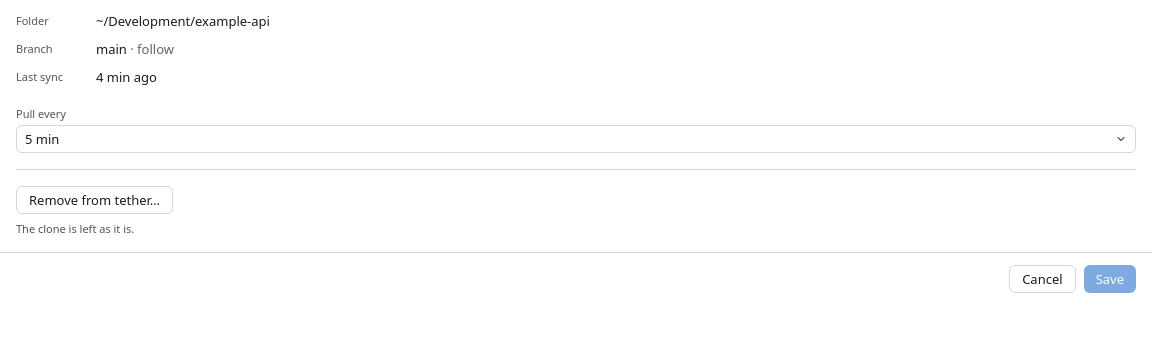
Test: RepoSettings › reads Removing… and locks the confirm while removing
Click the button "Remove from tether…" at (95, 200), box top-left (16, 186), bottom-right (173, 214)
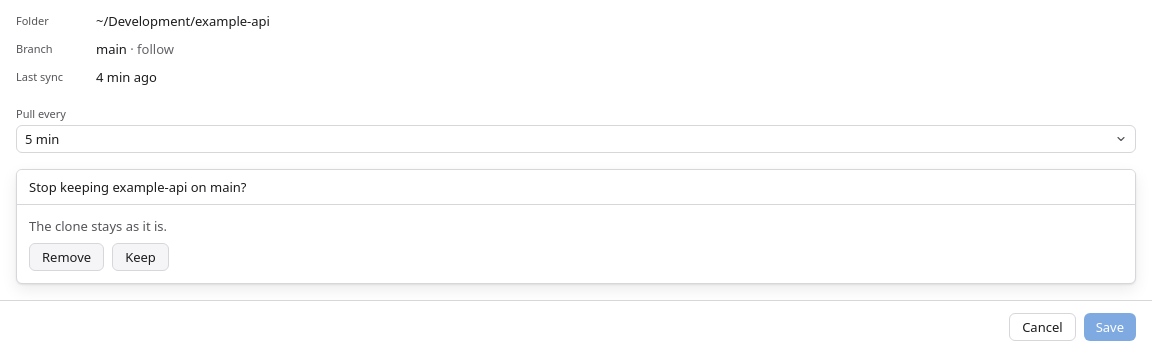
Click the button "Remove" at (67, 257), box top-left (29, 243), bottom-right (104, 271)
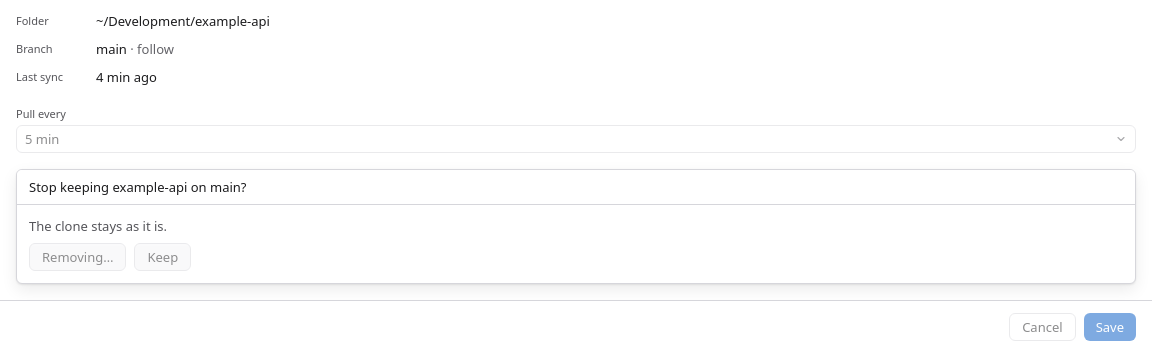
Expected: the button "Removing…" is disabled, top-left (29, 243), bottom-right (126, 271)
Expected: the button "Keep" is disabled, top-left (134, 243), bottom-right (191, 271)
